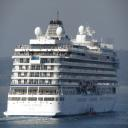cruises: (4, 12, 122, 120)
